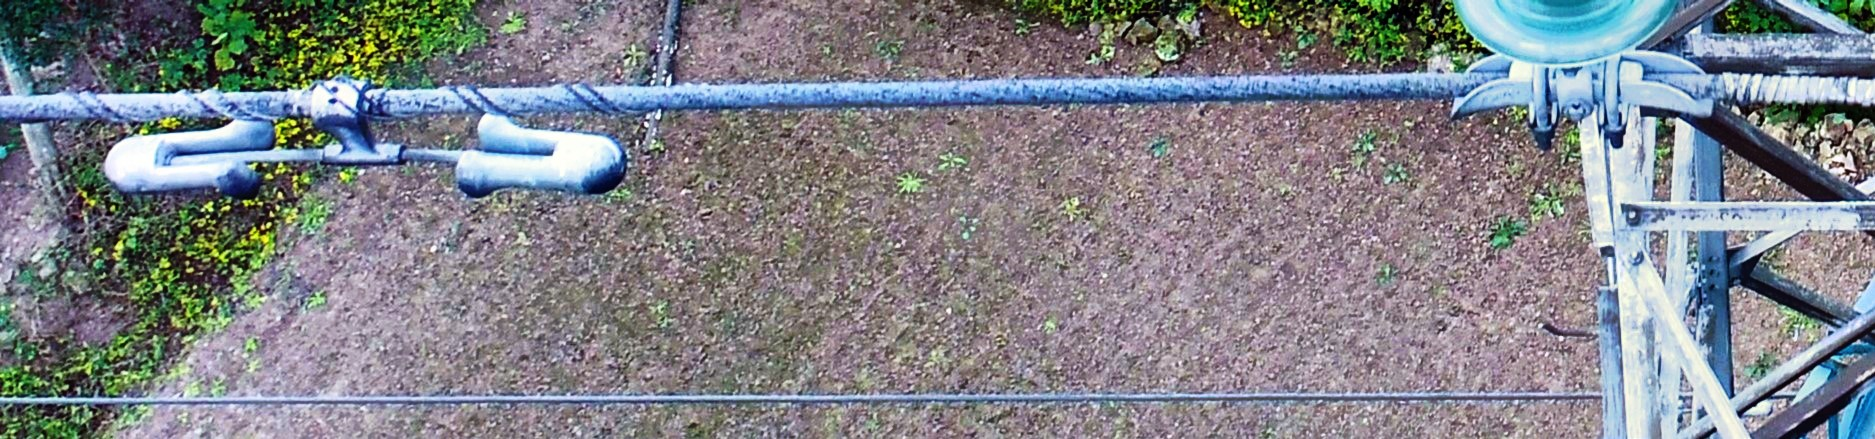Shockproof hammer: (88, 71, 634, 215)
